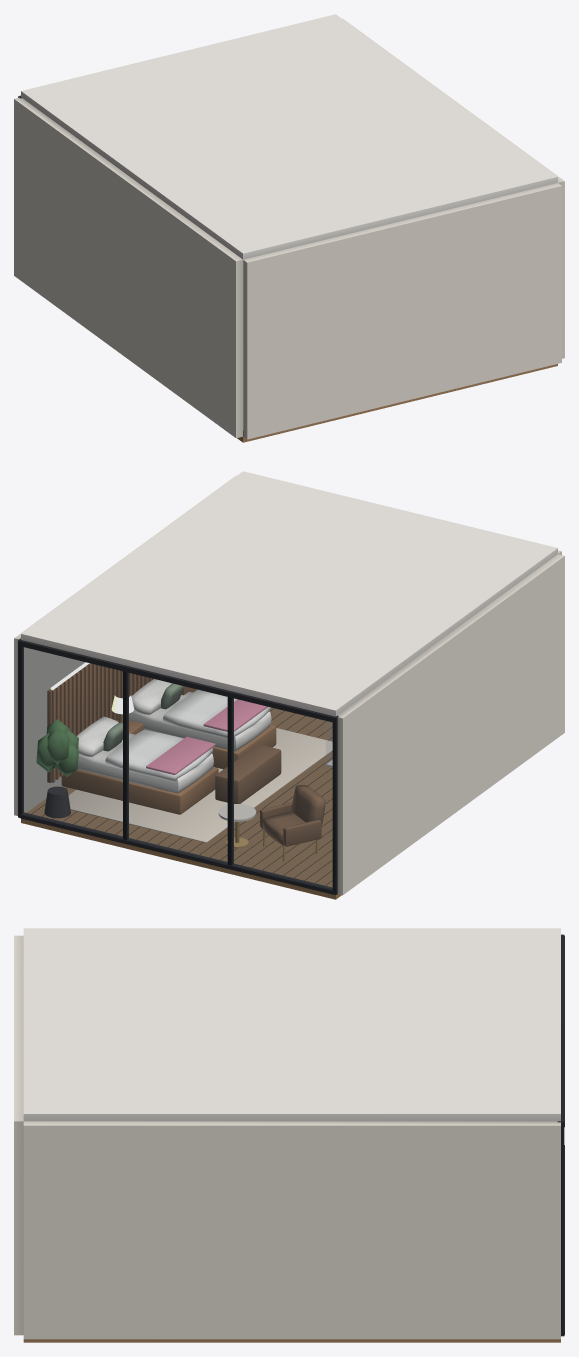
The model's file is kw-superior.glb.
The picture shows the model from 3 angles, top to bottom: view 1: azimuth 30°, elevation 25°; view 2: azimuth 150°, elevation 25°; view 3: azimuth 270°, elevation 25°; orthographic projection. The views are drawn at different scales.
Visible parts, largest first — view 1: Room_wall, Room_ceiling, Room_floor; view 2: Room_ceiling, Room_glass, Room_wall, Room_floor, Room_frameDark, Room_wood, Room_rug, Room_linen, Room_fabric2, Room_duvet, Room_throw, Room_leaf (+4 smaller); view 3: Room_wall, Room_ceiling, Room_floor, Room_frameDark.
Part boxes in pixels (x1,y1,x2,y2): Room_wall: (14, 18, 564, 439); Room_ceiling: (21, 14, 557, 259); Room_floor: (237, 364, 557, 442); Room_ceiling: (21, 471, 557, 716); Room_glass: (23, 647, 332, 888); Room_wall: (14, 475, 564, 895); Room_floor: (21, 707, 341, 899); Room_frameDark: (18, 638, 338, 894); Room_wood: (52, 663, 276, 814); Room_rug: (68, 728, 332, 842); Room_linen: (77, 679, 271, 793); Room_fabric2: (215, 744, 325, 846); Room_duvet: (105, 689, 270, 781); Room_throw: (146, 699, 267, 774); Room_leaf: (36, 719, 78, 776); Room_wall: (14, 935, 560, 1339); Room_ceiling: (23, 928, 560, 1121); Room_floor: (23, 1339, 560, 1342); Room_frameDark: (557, 934, 564, 1336).
Bounding box in the file's own units: 5.64 × 3.1 × 6.77.
